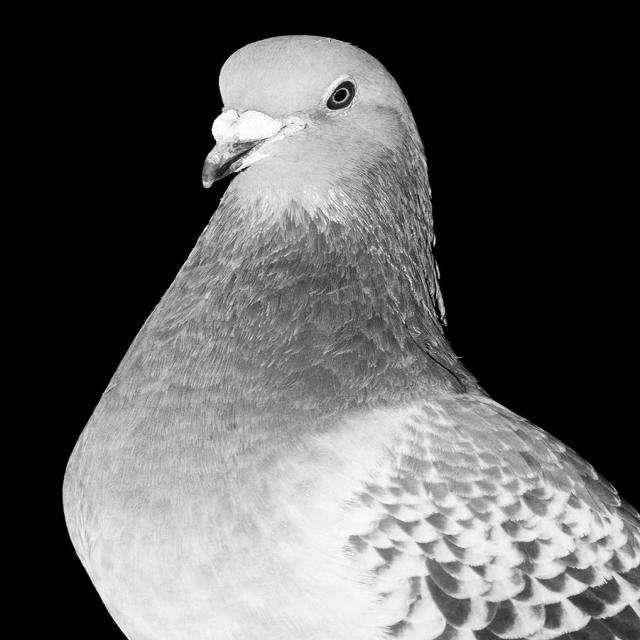Pigeon: (57, 34, 640, 632)
